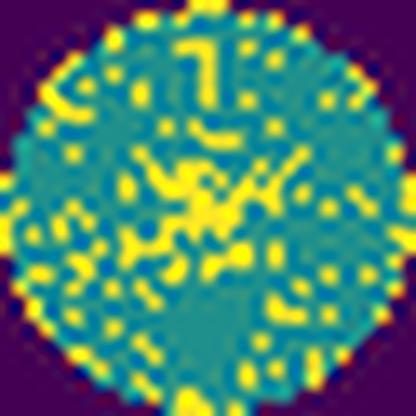Center: (120, 143, 309, 274)
